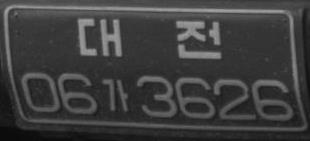0: (19, 70, 61, 114)
2: (216, 77, 254, 120)
3: (135, 75, 177, 117)
6: (255, 77, 296, 121), (178, 75, 217, 119), (62, 71, 98, 115)
가: (101, 77, 129, 112)
대전_D: (77, 17, 222, 60)
